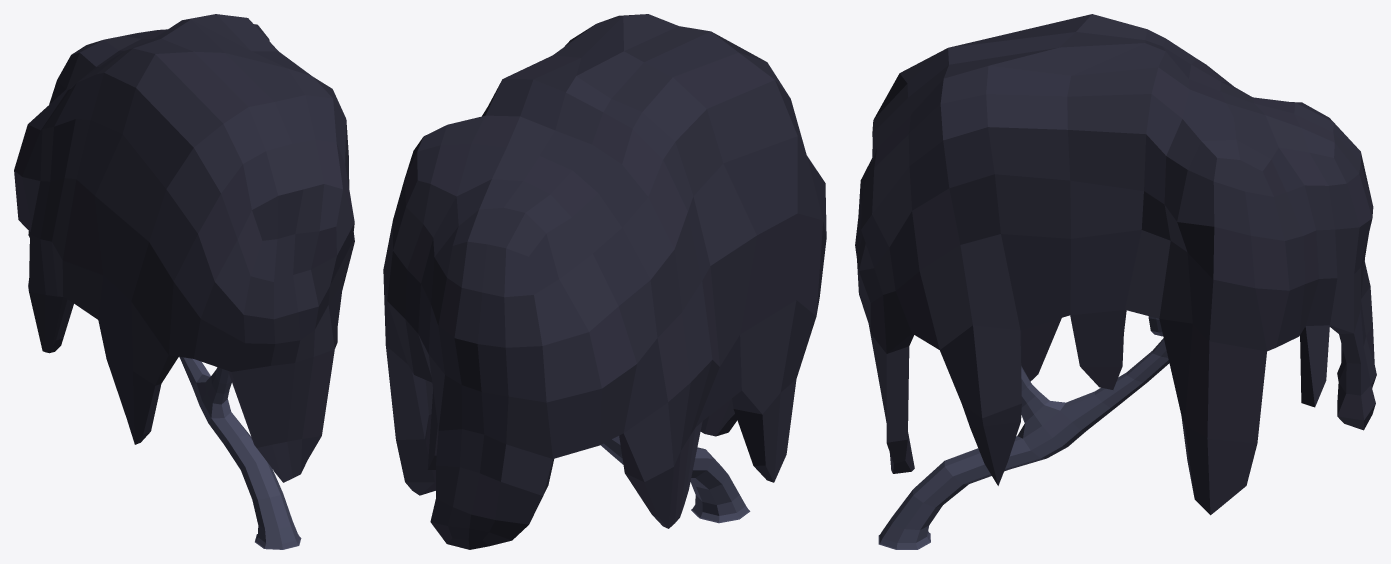
The model's file is Spoky_Tree_3.fbx.
3 views of the same model, side by side, from view 1: azimuth 30°, elevation 25°; view 2: azimuth 150°, elevation 25°; view 3: azimuth 270°, elevation 25° (orthographic). The views are drawn at different scales.
Parts seen in each view (by area): view 1: Spoky_Tree_3; view 2: Spoky_Tree_3; view 3: Spoky_Tree_3.
Part boxes in pixels (x1=…): Spoky_Tree_3: x1=14, y1=14, x2=354, y2=549; Spoky_Tree_3: x1=383, y1=14, x2=826, y2=549; Spoky_Tree_3: x1=855, y1=14, x2=1376, y2=549.
Size of the model in its own units: 13.86 by 23.57 by 22.04.
